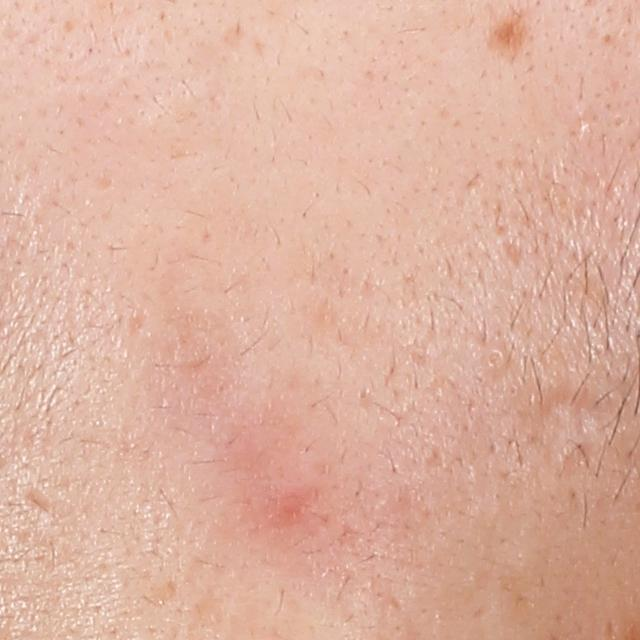atrophic_scar: (518, 383, 638, 466), (16, 485, 58, 522), (497, 237, 526, 269), (126, 308, 149, 336)
comedo: (481, 342, 510, 376)
